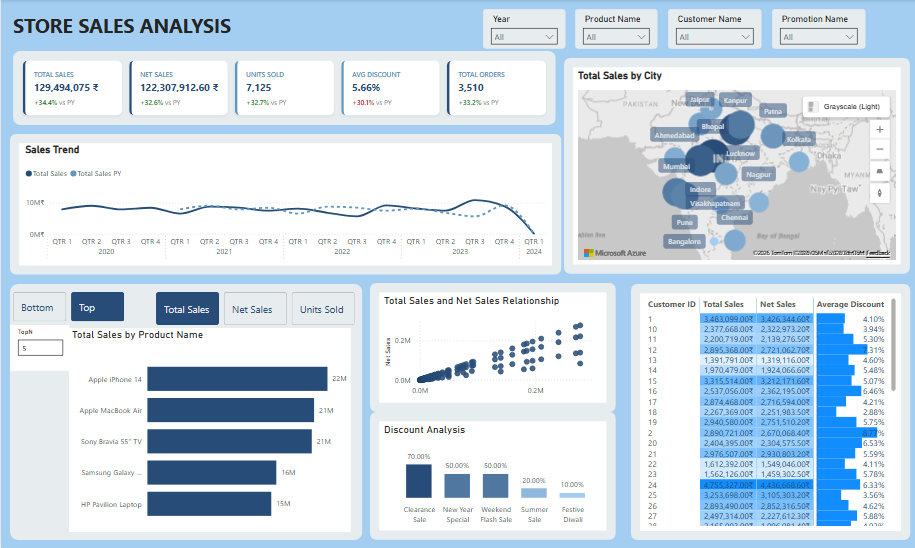

Layout of this report page (visuals, bound fields, positions):
{"tool":"powerbi","page":{"name":"Page 1","canvas":[1500,900],"ordinal":0},"visuals":[{"type":"htmlContent443BE3AD55E043BF878BED274D3A6855","fields":{"content":["_measures.KPI Card HTML"]},"box":[14.7,80.8,898.2,139.6],"z":0},{"type":"textbox","box":[14.3,16.3,402,53.1],"z":1},{"type":"slicer","fields":{"Values":["Dim Calendar.Year"]},"box":[788,16.5,134.7,65.3],"z":2},{"type":"slicer","fields":{"Values":["Dim Product.Product Name"]},"box":[939.8,16.5,134.7,65.3],"z":3},{"type":"slicer","fields":{"Values":["Dim Customers.Customer Name"]},"box":[1091.6,16.5,153.1,65.3],"z":4},{"type":"slicer","fields":{"Values":["Dim Promotion.Promotion Name"]},"box":[1261.8,16.5,153.1,65.3],"z":5},{"type":"lineChart","title":"Sales Trend","fields":{"Category":["Dim Calendar.Date Hierarchy.Year","Dim Calendar.Date Hierarchy.Quarter","Dim Calendar.Date Hierarchy.Month"],"Y":["_measures.Total Sales","_measures.Total Sales PY"]},"box":[14.7,220.4,901.8,229.6],"z":6},{"type":"pivotTable","fields":{"Rows":["Dim Customers.Customer ID"],"Values":["_measures.Total Sales","_measures.Net Sales","_measures.Average Discount"]},"box":[1030.4,466.5,457.3,418.8],"z":7},{"type":"azureMap","fields":{"Category":["Dim Customers.City"],"Size":["_measures.Total Sales"]},"box":[922,97.3,565.7,352.7],"z":8},{"type":"scatterChart","title":"Total Sales and Net Sales Relationship","fields":{"X":["Fact Sales.Total Sales"],"Y":["Fact Sales.Net Sales"]},"box":[604.3,464.7,402.2,211.2],"z":9},{"type":"columnChart","title":"Discount Analysis","fields":{"Category":["Dim Promotion.Promotion Name"],"Y":["_measures.Average Discount"]},"box":[604.3,675.9,402.2,209.4],"z":10},{"type":"shape","box":[14.7,466.5,576.7,418.8],"z":11},{"type":"slicer","fields":{"Values":["TopN.TopN"]},"box":[14.7,532.7,97.3,75.3],"z":12},{"type":"advancedSlicerVisual","fields":{"Values":["Measures Parameter.Measures Parameter"]},"box":[248,473.9,338,64.3],"z":13},{"type":"advancedSlicerVisual","fields":{"Values":["TopBottom.Value"]},"box":[14.7,473.9,192.9,58.8],"z":14},{"type":"barChart","fields":{"Category":["Dim Product.Product Name"],"Y":["_measures.Sales Ranking"]},"box":[112,538.2,461,334.3],"z":15}]}

Visuals, with their boxes in screenshot pixels (x1, y1, x2, y2), scaled from the page's 1500x900 canvas onto the 915x548 screenshot:
htmlContent443BE3AD55E043BF878BED274D3A6855 - _measures.KPI Card HTML: box=[9, 49, 557, 134]
textbox: box=[9, 10, 254, 42]
slicer - Dim Calendar.Year: box=[481, 10, 563, 50]
slicer - Dim Product.Product Name: box=[573, 10, 655, 50]
slicer - Dim Customers.Customer Name: box=[666, 10, 759, 50]
slicer - Dim Promotion.Promotion Name: box=[770, 10, 863, 50]
"Sales Trend" lineChart: box=[9, 134, 559, 274]
pivotTable - Dim Customers.Customer ID x _measures.Total Sales: box=[629, 284, 907, 539]
azureMap - Dim Customers.City x _measures.Total Sales: box=[562, 59, 907, 274]
"Total Sales and Net Sales Relationship" scatterChart: box=[369, 283, 614, 412]
"Discount Analysis" columnChart: box=[369, 412, 614, 539]
shape: box=[9, 284, 361, 539]
slicer - TopN.TopN: box=[9, 324, 68, 370]
advancedSlicerVisual - Measures Parameter.Measures Parameter: box=[151, 289, 357, 328]
advancedSlicerVisual - TopBottom.Value: box=[9, 289, 127, 324]
barChart - Dim Product.Product Name x _measures.Sales Ranking: box=[68, 328, 350, 531]
